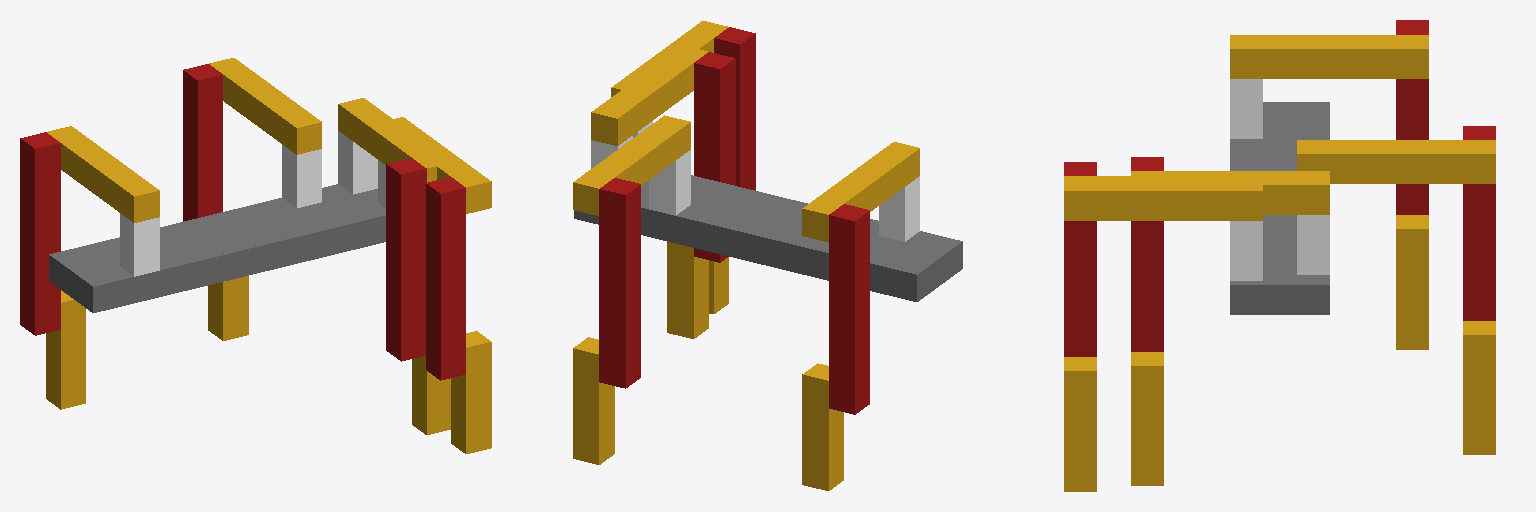
The robot description file, URDF, robot "v0":
<?xml version="1.0" encoding="utf-8"?>
<!-- =================================================================================== -->
<!-- |    This document was autogenerated by xacro from ../robots/v0variants/xacros/v0_4l_3.xacro | -->
<!-- |    EDITING THIS FILE BY HAND IS NOT RECOMMENDED                                 | -->
<!-- =================================================================================== -->
<robot name="v0">
  <material name="grey">
    <color rgba="0.5 0.5 0.5 1"/>
  </material>
  <material name="white">
    <color rgba="1 1 1 1"/>
  </material>
  <material name="yellow">
    <color rgba="0.91 0.7 0.14 1"/>
  </material>
  <material name="red">
    <color rgba="0.71 0.14 0.14 1"/>
  </material>
  <link name="body">
    <visual>
      <geometry>
        <box size="1.3 0.3 0.1"/>
      </geometry>
      <material name="grey"/>
      <origin rpy="0 0 0" xyz="0 0 0.7"/>
    </visual>
    <collision>
      <geometry>
        <box size="1.3 0.3 0.1"/>
      </geometry>
      <origin rpy="0 0 0" xyz="0 0 0.7"/>
    </collision>
    <inertial>
      <mass value="99.84"/>
      <inertia ixx="0.832" ixy="0.0" ixz="0.0" iyy="14.144" iyz="0.0" izz="14.8096"/>
    </inertial>
  </link>
  <link name="l1_segment_1">
    <visual>
      <geometry>
        <box size="0.1 0.1 0.2"/>
      </geometry>
      <material name="white"/>
      <origin rpy="0 0 0" xyz="0 0 0.1"/>
    </visual>
    <collision>
      <geometry>
        <box size="0.1 0.1 0.2"/>
      </geometry>
      <origin rpy="0 0 0" xyz="0 0 0.1"/>
    </collision>
    <inertial>
      <mass value="5.12"/>
      <inertia ixx="0.0213333333333" ixy="0.0" ixz="0.0" iyy="0.0213333333333" iyz="0.0" izz="0.00853333333333"/>
    </inertial>
  </link>
  <joint name="l1_base_to_joint_1" type="fixed">
    <parent link="body"/>
    <child link="l1_segment_1"/>
    <origin rpy="0 0 0" xyz="0.3138299066055421 0.1 0.75"/>
  </joint>
  <link name="l1_segment_2_HIP">
    <visual>
      <geometry>
        <box size="0.1 0.6 0.1"/>
      </geometry>
      <material name="yellow"/>
      <origin rpy="0 0 0" xyz="0 0.25 0"/>
    </visual>
    <collision>
      <geometry>
        <box size="0.1 0.6 0.1"/>
      </geometry>
      <origin rpy="0 0 0" xyz="0 0.25 0"/>
    </collision>
    <inertial>
      <mass value="15.36"/>
      <inertia ixx="0.4736" ixy="0.0" ixz="0.0" iyy="0.0256" iyz="0.0" izz="0.4736"/>
    </inertial>
  </link>
  <joint name="l1_joint_1_to_2" type="revolute">
    <parent link="l1_segment_1"/>
    <child link="l1_segment_2_HIP"/>
    <origin rpy="0 0 0" xyz="0 0 0.25"/>
    <axis xyz="0.0 0.0 1.0"/>
    <limit effort="2048" lower="-1.2" upper="1.2" velocity="20"/>
  </joint>
  <link name="l1_segment_3_THIGH">
    <visual>
      <geometry>
        <box size="0.1 0.1 0.7"/>
      </geometry>
      <material name="red"/>
      <origin rpy="0 0 0" xyz="0 0 -0.3"/>
    </visual>
    <collision>
      <geometry>
        <box size="0.1 0.1 0.7"/>
      </geometry>
      <origin rpy="0 0 0" xyz="0 0 -0.3"/>
    </collision>
    <inertial>
      <mass value="17.92"/>
      <inertia ixx="0.746666666667" ixy="0.0" ixz="0.0" iyy="0.746666666667" iyz="0.0" izz="0.0298666666667"/>
    </inertial>
  </link>
  <joint name="l1_joint_2_to_3" type="revolute">
    <parent link="l1_segment_2_HIP"/>
    <child link="l1_segment_3_THIGH"/>
    <origin rpy="0 0 0" xyz="-0.1 0.5 0"/>
    <axis xyz="1.0 0.0 0.0"/>
    <limit effort="2048" lower="-0.2" upper="0.75" velocity="20"/>
  </joint>
  <link name="l1_segment_4_FOOT">
    <visual>
      <geometry>
        <box size="0.1 0.1 0.4"/>
      </geometry>
      <material name="yellow"/>
      <origin rpy="0 0 0" xyz="0 0 -0.2"/>
    </visual>
    <collision>
      <geometry>
        <box size="0.1 0.1 0.4"/>
      </geometry>
      <origin rpy="0 0 0" xyz="0 0 -0.2"/>
    </collision>
    <inertial>
      <mass value="10.24"/>
      <inertia ixx="0.145066666667" ixy="0.0" ixz="0.0" iyy="0.145066666667" iyz="0.0" izz="0.0170666666667"/>
    </inertial>
  </link>
  <joint name="l1_joint_3_to_4_FOOT" type="revolute">
    <parent link="l1_segment_3_THIGH"/>
    <child link="l1_segment_4_FOOT"/>
    <origin rpy="0 0 0" xyz="0.1 0 -0.55"/>
    <axis xyz="1.0 0.0 0.0"/>
    <limit effort="2048" lower="-0.2" upper="0.5" velocity="20"/>
  </joint>
  <link name="r2_segment_1">
    <visual>
      <geometry>
        <box size="0.1 0.1 0.2"/>
      </geometry>
      <material name="white"/>
      <origin rpy="0 0 0" xyz="0 0 0.1"/>
    </visual>
    <collision>
      <geometry>
        <box size="0.1 0.1 0.2"/>
      </geometry>
      <origin rpy="0 0 0" xyz="0 0 0.1"/>
    </collision>
    <inertial>
      <mass value="5.12"/>
      <inertia ixx="0.0213333333333" ixy="0.0" ixz="0.0" iyy="0.0213333333333" iyz="0.0" izz="0.00853333333333"/>
    </inertial>
  </link>
  <joint name="r2_base_to_joint_1" type="fixed">
    <parent link="body"/>
    <child link="r2_segment_1"/>
    <origin rpy="0 0 0" xyz="0.5339178358256129 0.1 0.75"/>
  </joint>
  <link name="r2_segment_2_HIP">
    <visual>
      <geometry>
        <box size="0.1 0.6 0.1"/>
      </geometry>
      <material name="yellow"/>
      <origin rpy="0 0 0" xyz="0 -0.25 0"/>
    </visual>
    <collision>
      <geometry>
        <box size="0.1 0.6 0.1"/>
      </geometry>
      <origin rpy="0 0 0" xyz="0 -0.25 0"/>
    </collision>
    <inertial>
      <mass value="15.36"/>
      <inertia ixx="0.4736" ixy="0.0" ixz="0.0" iyy="0.0256" iyz="0.0" izz="0.4736"/>
    </inertial>
  </link>
  <joint name="r2_joint_1_to_2" type="revolute">
    <parent link="r2_segment_1"/>
    <child link="r2_segment_2_HIP"/>
    <origin rpy="0 0 0" xyz="0 0 0.25"/>
    <axis xyz="0.0 0.0 1.0"/>
    <limit effort="2048" lower="-1.2" upper="1.2" velocity="20"/>
  </joint>
  <link name="r2_segment_3_THIGH">
    <visual>
      <geometry>
        <box size="0.1 0.1 0.7"/>
      </geometry>
      <material name="red"/>
      <origin rpy="0 0 0" xyz="0 0 -0.3"/>
    </visual>
    <collision>
      <geometry>
        <box size="0.1 0.1 0.7"/>
      </geometry>
      <origin rpy="0 0 0" xyz="0 0 -0.3"/>
    </collision>
    <inertial>
      <mass value="17.92"/>
      <inertia ixx="0.746666666667" ixy="0.0" ixz="0.0" iyy="0.746666666667" iyz="0.0" izz="0.0298666666667"/>
    </inertial>
  </link>
  <joint name="r2_joint_2_to_3" type="revolute">
    <parent link="r2_segment_2_HIP"/>
    <child link="r2_segment_3_THIGH"/>
    <origin rpy="0 0 0" xyz="-0.1 -0.5 0"/>
    <axis xyz="1.0 0.0 0.0"/>
    <limit effort="2048" lower="-0.75" upper="0.2" velocity="20"/>
  </joint>
  <link name="r2_segment_4_FOOT">
    <visual>
      <geometry>
        <box size="0.1 0.1 0.4"/>
      </geometry>
      <material name="yellow"/>
      <origin rpy="0 0 0" xyz="0 0 -0.2"/>
    </visual>
    <collision>
      <geometry>
        <box size="0.1 0.1 0.4"/>
      </geometry>
      <origin rpy="0 0 0" xyz="0 0 -0.2"/>
    </collision>
    <inertial>
      <mass value="10.24"/>
      <inertia ixx="0.145066666667" ixy="0.0" ixz="0.0" iyy="0.145066666667" iyz="0.0" izz="0.0170666666667"/>
    </inertial>
  </link>
  <joint name="r2_joint_3_to_4_FOOT" type="revolute">
    <parent link="r2_segment_3_THIGH"/>
    <child link="r2_segment_4_FOOT"/>
    <origin rpy="0 0 0" xyz="0.1 0 -0.55"/>
    <axis xyz="1.0 0.0 0.0"/>
    <limit effort="2048" lower="-0.5" upper="0.2" velocity="20"/>
  </joint>
  <link name="l3_segment_1">
    <visual>
      <geometry>
        <box size="0.1 0.1 0.2"/>
      </geometry>
      <material name="white"/>
      <origin rpy="0 0 0" xyz="0 0 0.1"/>
    </visual>
    <collision>
      <geometry>
        <box size="0.1 0.1 0.2"/>
      </geometry>
      <origin rpy="0 0 0" xyz="0 0 0.1"/>
    </collision>
    <inertial>
      <mass value="5.12"/>
      <inertia ixx="0.0213333333333" ixy="0.0" ixz="0.0" iyy="0.0213333333333" iyz="0.0" izz="0.00853333333333"/>
    </inertial>
  </link>
  <joint name="l3_base_to_joint_1" type="fixed">
    <parent link="body"/>
    <child link="l3_segment_1"/>
    <origin rpy="0 0 0" xyz="-0.43866935659416256 -0.1 0.75"/>
  </joint>
  <link name="l3_segment_2_HIP">
    <visual>
      <geometry>
        <box size="0.1 0.6 0.1"/>
      </geometry>
      <material name="yellow"/>
      <origin rpy="0 0 0" xyz="0 0.25 0"/>
    </visual>
    <collision>
      <geometry>
        <box size="0.1 0.6 0.1"/>
      </geometry>
      <origin rpy="0 0 0" xyz="0 0.25 0"/>
    </collision>
    <inertial>
      <mass value="15.36"/>
      <inertia ixx="0.4736" ixy="0.0" ixz="0.0" iyy="0.0256" iyz="0.0" izz="0.4736"/>
    </inertial>
  </link>
  <joint name="l3_joint_1_to_2" type="revolute">
    <parent link="l3_segment_1"/>
    <child link="l3_segment_2_HIP"/>
    <origin rpy="0 0 0" xyz="0 0 0.25"/>
    <axis xyz="0.0 0.0 1.0"/>
    <limit effort="2048" lower="-1.2" upper="1.2" velocity="20"/>
  </joint>
  <link name="l3_segment_3_THIGH">
    <visual>
      <geometry>
        <box size="0.1 0.1 0.7"/>
      </geometry>
      <material name="red"/>
      <origin rpy="0 0 0" xyz="0 0 -0.3"/>
    </visual>
    <collision>
      <geometry>
        <box size="0.1 0.1 0.7"/>
      </geometry>
      <origin rpy="0 0 0" xyz="0 0 -0.3"/>
    </collision>
    <inertial>
      <mass value="17.92"/>
      <inertia ixx="0.746666666667" ixy="0.0" ixz="0.0" iyy="0.746666666667" iyz="0.0" izz="0.0298666666667"/>
    </inertial>
  </link>
  <joint name="l3_joint_2_to_3" type="revolute">
    <parent link="l3_segment_2_HIP"/>
    <child link="l3_segment_3_THIGH"/>
    <origin rpy="0 0 0" xyz="-0.1 0.5 0"/>
    <axis xyz="1.0 0.0 0.0"/>
    <limit effort="2048" lower="-0.2" upper="0.75" velocity="20"/>
  </joint>
  <link name="l3_segment_4_FOOT">
    <visual>
      <geometry>
        <box size="0.1 0.1 0.4"/>
      </geometry>
      <material name="yellow"/>
      <origin rpy="0 0 0" xyz="0 0 -0.2"/>
    </visual>
    <collision>
      <geometry>
        <box size="0.1 0.1 0.4"/>
      </geometry>
      <origin rpy="0 0 0" xyz="0 0 -0.2"/>
    </collision>
    <inertial>
      <mass value="10.24"/>
      <inertia ixx="0.145066666667" ixy="0.0" ixz="0.0" iyy="0.145066666667" iyz="0.0" izz="0.0170666666667"/>
    </inertial>
  </link>
  <joint name="l3_joint_3_to_4_FOOT" type="revolute">
    <parent link="l3_segment_3_THIGH"/>
    <child link="l3_segment_4_FOOT"/>
    <origin rpy="0 0 0" xyz="0.1 0 -0.55"/>
    <axis xyz="1.0 0.0 0.0"/>
    <limit effort="2048" lower="-0.2" upper="0.5" velocity="20"/>
  </joint>
  <link name="r4_segment_1">
    <visual>
      <geometry>
        <box size="0.1 0.1 0.2"/>
      </geometry>
      <material name="white"/>
      <origin rpy="0 0 0" xyz="0 0 0.1"/>
    </visual>
    <collision>
      <geometry>
        <box size="0.1 0.1 0.2"/>
      </geometry>
      <origin rpy="0 0 0" xyz="0 0 0.1"/>
    </collision>
    <inertial>
      <mass value="5.12"/>
      <inertia ixx="0.0213333333333" ixy="0.0" ixz="0.0" iyy="0.0213333333333" iyz="0.0" izz="0.00853333333333"/>
    </inertial>
  </link>
  <joint name="r4_base_to_joint_1" type="fixed">
    <parent link="body"/>
    <child link="r4_segment_1"/>
    <origin rpy="0 0 0" xyz="0.5729296193989647 -0.1 0.75"/>
  </joint>
  <link name="r4_segment_2_HIP">
    <visual>
      <geometry>
        <box size="0.1 0.6 0.1"/>
      </geometry>
      <material name="yellow"/>
      <origin rpy="0 0 0" xyz="0 -0.25 0"/>
    </visual>
    <collision>
      <geometry>
        <box size="0.1 0.6 0.1"/>
      </geometry>
      <origin rpy="0 0 0" xyz="0 -0.25 0"/>
    </collision>
    <inertial>
      <mass value="15.36"/>
      <inertia ixx="0.4736" ixy="0.0" ixz="0.0" iyy="0.0256" iyz="0.0" izz="0.4736"/>
    </inertial>
  </link>
  <joint name="r4_joint_1_to_2" type="revolute">
    <parent link="r4_segment_1"/>
    <child link="r4_segment_2_HIP"/>
    <origin rpy="0 0 0" xyz="0 0 0.25"/>
    <axis xyz="0.0 0.0 1.0"/>
    <limit effort="2048" lower="-1.2" upper="1.2" velocity="20"/>
  </joint>
  <link name="r4_segment_3_THIGH">
    <visual>
      <geometry>
        <box size="0.1 0.1 0.7"/>
      </geometry>
      <material name="red"/>
      <origin rpy="0 0 0" xyz="0 0 -0.3"/>
    </visual>
    <collision>
      <geometry>
        <box size="0.1 0.1 0.7"/>
      </geometry>
      <origin rpy="0 0 0" xyz="0 0 -0.3"/>
    </collision>
    <inertial>
      <mass value="17.92"/>
      <inertia ixx="0.746666666667" ixy="0.0" ixz="0.0" iyy="0.746666666667" iyz="0.0" izz="0.0298666666667"/>
    </inertial>
  </link>
  <joint name="r4_joint_2_to_3" type="revolute">
    <parent link="r4_segment_2_HIP"/>
    <child link="r4_segment_3_THIGH"/>
    <origin rpy="0 0 0" xyz="-0.1 -0.5 0"/>
    <axis xyz="1.0 0.0 0.0"/>
    <limit effort="2048" lower="-0.75" upper="0.2" velocity="20"/>
  </joint>
  <link name="r4_segment_4_FOOT">
    <visual>
      <geometry>
        <box size="0.1 0.1 0.4"/>
      </geometry>
      <material name="yellow"/>
      <origin rpy="0 0 0" xyz="0 0 -0.2"/>
    </visual>
    <collision>
      <geometry>
        <box size="0.1 0.1 0.4"/>
      </geometry>
      <origin rpy="0 0 0" xyz="0 0 -0.2"/>
    </collision>
    <inertial>
      <mass value="10.24"/>
      <inertia ixx="0.145066666667" ixy="0.0" ixz="0.0" iyy="0.145066666667" iyz="0.0" izz="0.0170666666667"/>
    </inertial>
  </link>
  <joint name="r4_joint_3_to_4_FOOT" type="revolute">
    <parent link="r4_segment_3_THIGH"/>
    <child link="r4_segment_4_FOOT"/>
    <origin rpy="0 0 0" xyz="0.1 0 -0.55"/>
    <axis xyz="1.0 0.0 0.0"/>
    <limit effort="2048" lower="-0.5" upper="0.2" velocity="20"/>
  </joint>
</robot>

--- Render facts (derived) ---
The picture shows the robot from 3 angles, left to right: view 1: azimuth 30°, elevation 25°; view 2: azimuth 150°, elevation 25°; view 3: azimuth 270°, elevation 25°; orthographic projection.
Model v0 with 17 links and 16 joints (12 revolute, 4 fixed), rooted at body, posed every joint at zero.
Links seen in each view (by area): view 1: body, r2_segment_3_THIGH, r4_segment_3_THIGH, l3_segment_3_THIGH, l1_segment_3_THIGH, l1_segment_2_HIP, l3_segment_2_HIP, r4_segment_4_FOOT, l3_segment_4_FOOT, r2_segment_2_HIP, r4_segment_2_HIP, r2_segment_4_FOOT (+4 smaller); view 2: body, l1_segment_3_THIGH, l3_segment_3_THIGH, r2_segment_3_THIGH, r2_segment_2_HIP, l3_segment_2_HIP, l1_segment_2_HIP, l3_segment_4_FOOT, l1_segment_4_FOOT, r4_segment_3_THIGH, r2_segment_4_FOOT, l1_segment_1 (+3 smaller); view 3: body, l3_segment_2_HIP, l1_segment_2_HIP, r4_segment_2_HIP, l1_segment_3_THIGH, r4_segment_3_THIGH, r2_segment_2_HIP, r2_segment_3_THIGH, l3_segment_4_FOOT, r4_segment_4_FOOT, l1_segment_4_FOOT, r2_segment_4_FOOT (+4 smaller).
Boxes of the visible links, x1,y1,x2,y2 form: body: (49, 184, 385, 312); r2_segment_3_THIGH: (386, 158, 426, 361); r4_segment_3_THIGH: (426, 177, 465, 380); l3_segment_3_THIGH: (20, 132, 60, 335); l1_segment_3_THIGH: (183, 64, 222, 221); l1_segment_2_HIP: (209, 58, 321, 154); l3_segment_2_HIP: (47, 126, 159, 222); r4_segment_4_FOOT: (451, 331, 491, 453); l3_segment_4_FOOT: (46, 290, 85, 409); r2_segment_2_HIP: (338, 98, 448, 182); r4_segment_2_HIP: (384, 117, 491, 213); r2_segment_4_FOOT: (412, 356, 450, 434); body: (574, 175, 962, 301); l1_segment_3_THIGH: (599, 178, 640, 388); l3_segment_3_THIGH: (829, 204, 869, 414); r2_segment_3_THIGH: (694, 52, 735, 262); r2_segment_2_HIP: (591, 45, 707, 145); l3_segment_2_HIP: (802, 142, 919, 242); l1_segment_2_HIP: (573, 115, 690, 215); l3_segment_4_FOOT: (802, 363, 843, 490); l1_segment_4_FOOT: (573, 337, 614, 464); r4_segment_3_THIGH: (714, 27, 755, 190); r2_segment_4_FOOT: (667, 242, 708, 338); l1_segment_1: (649, 150, 690, 215); body: (1230, 102, 1329, 314); l3_segment_2_HIP: (1230, 35, 1428, 78); l1_segment_2_HIP: (1297, 140, 1495, 183); r4_segment_2_HIP: (1064, 176, 1262, 220); l1_segment_3_THIGH: (1463, 126, 1495, 320); r4_segment_3_THIGH: (1064, 162, 1096, 356); r2_segment_2_HIP: (1131, 171, 1329, 214); r2_segment_3_THIGH: (1131, 157, 1163, 351); l3_segment_4_FOOT: (1396, 215, 1428, 349); r4_segment_4_FOOT: (1064, 357, 1096, 491); l1_segment_4_FOOT: (1463, 321, 1495, 454); r2_segment_4_FOOT: (1131, 352, 1163, 485).
Bounding box of the posed robot: 1.3 × 1.3 × 1 m (x, y, z).
Geometry: primitives only (box / cylinder / sphere), no mesh files.